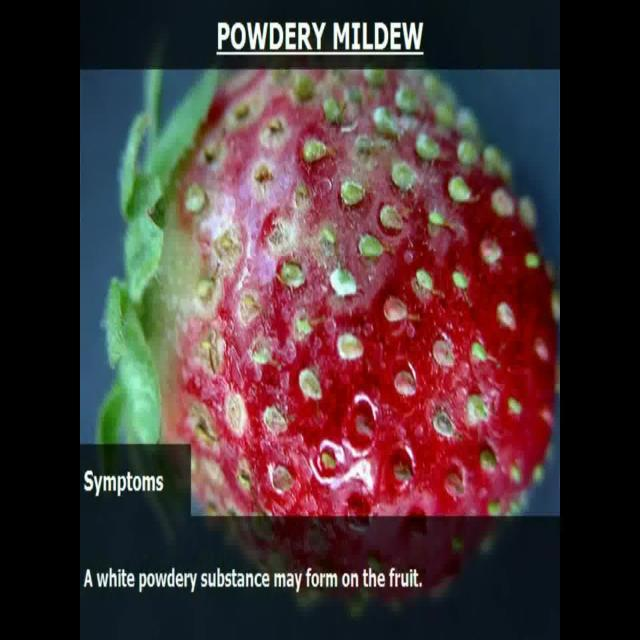Oído: (118, 73, 554, 537)
